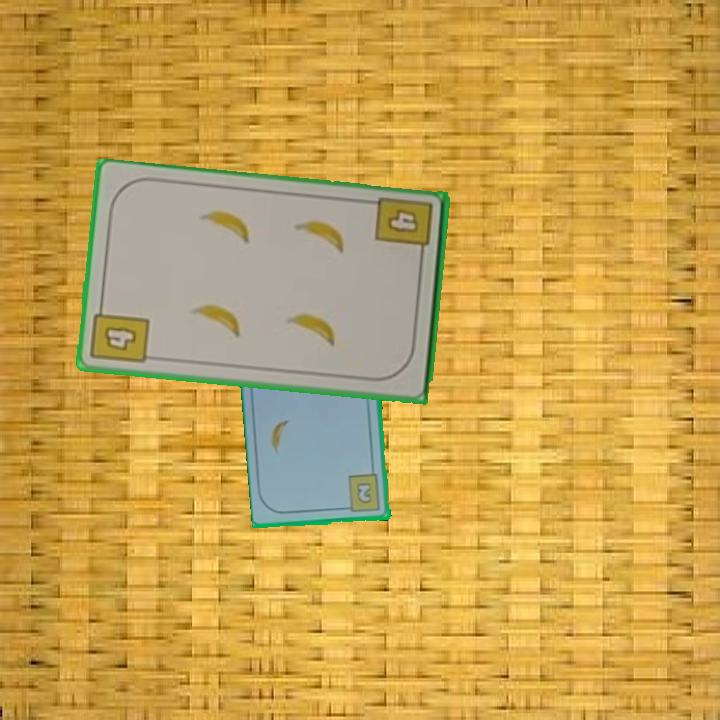2b: (341, 471, 383, 515)
4b: (372, 193, 436, 263), (87, 299, 152, 367)
